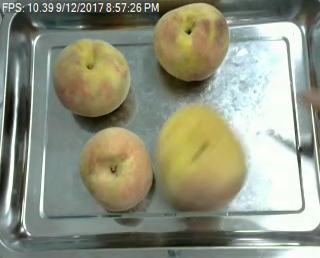Peach: (156, 101, 245, 211), (79, 126, 152, 211), (52, 37, 130, 116), (153, 2, 230, 80)
